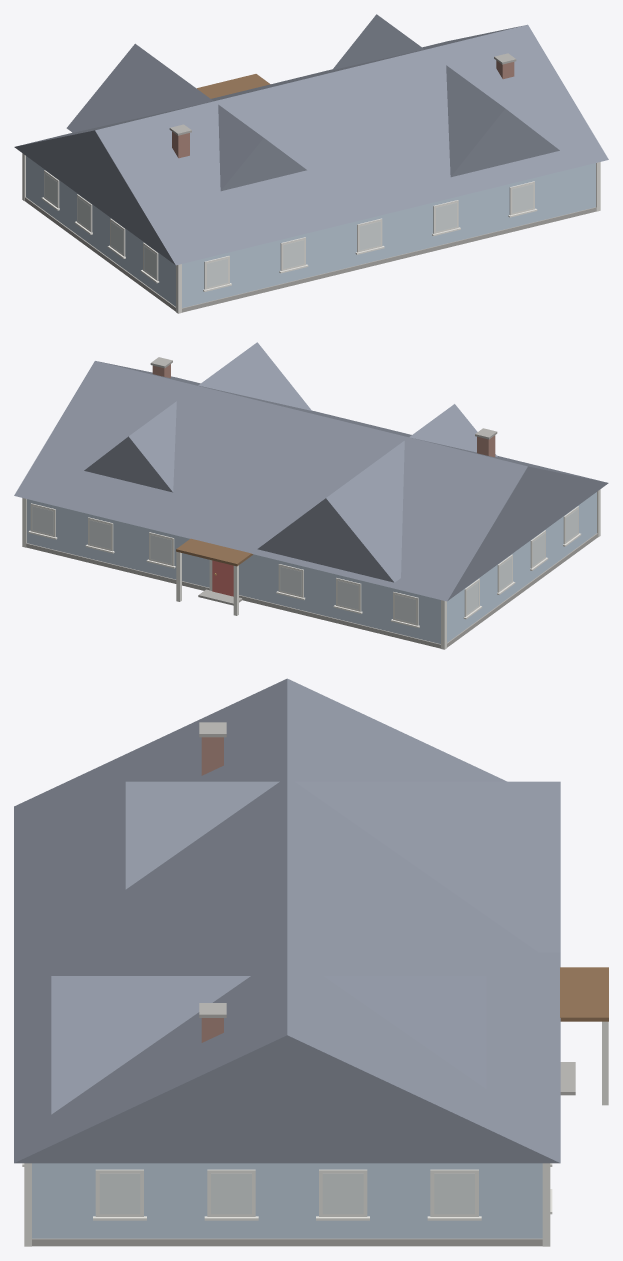
File: house_large_b.glb
3 views of the same model, one above another, from view 1: azimuth 30°, elevation 25°; view 2: azimuth 150°, elevation 25°; view 3: azimuth 270°, elevation 25° (orthographic). The views are drawn at different scales.
Parts seen in each view (by area): view 1: roof, body; view 2: roof, body; view 3: roof, body.
Boxes of the visible parts, bbox=[...] form: roof: bbox=[14, 14, 608, 265]; body: bbox=[22, 74, 600, 313]; roof: bbox=[14, 342, 608, 601]; body: bbox=[22, 489, 600, 649]; roof: bbox=[14, 678, 560, 1163]; body: bbox=[22, 967, 608, 1246].
Size of the model in its own units: 22.7 by 6.49 by 16.
